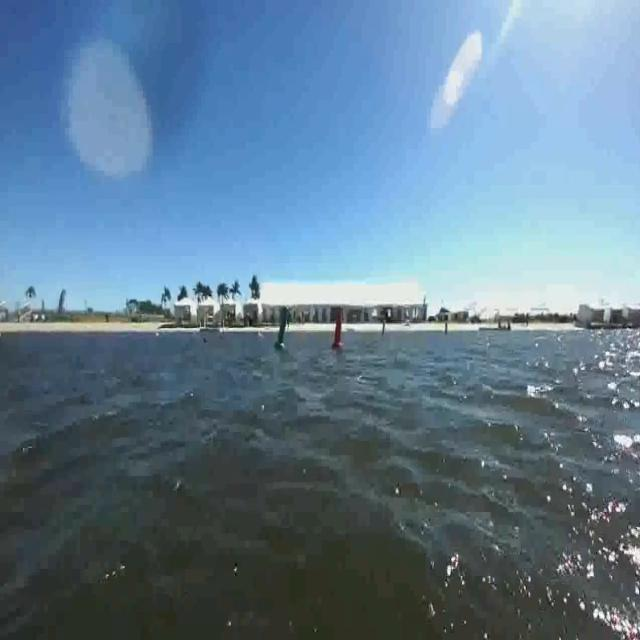green-column-buoy: (271, 297, 293, 365)
red-column-buoy: (333, 312, 347, 352)
